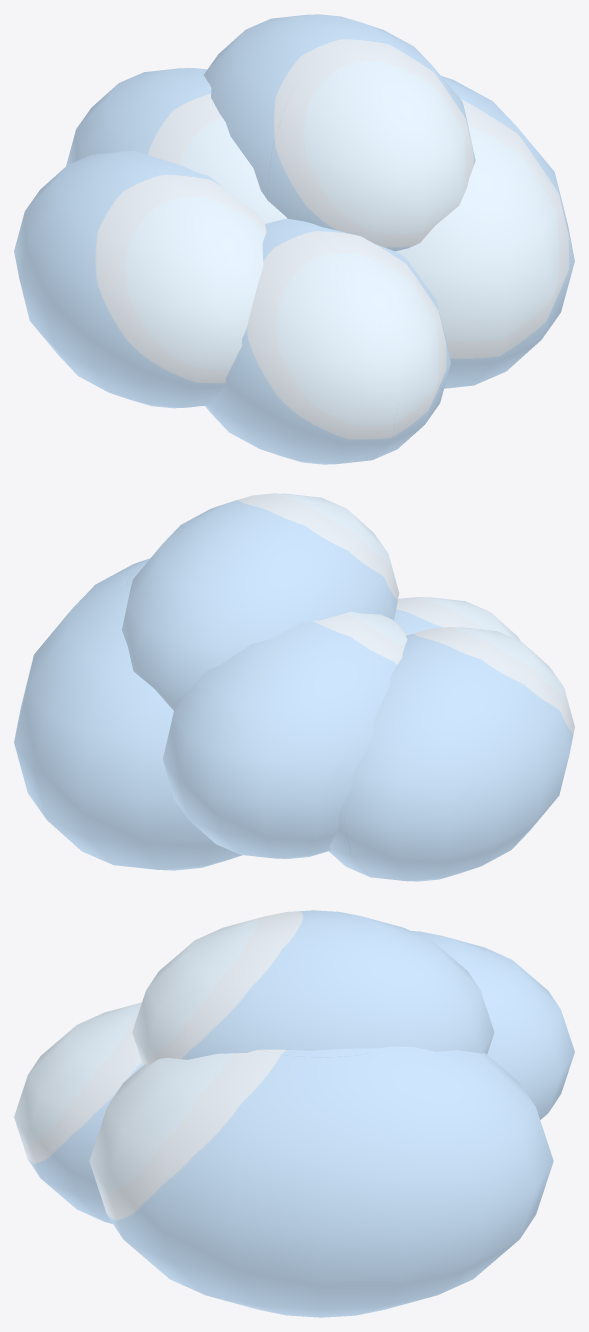
The model's file is cloud4.glb.
3 views of the same model, one above another, from view 1: azimuth 30°, elevation 25°; view 2: azimuth 150°, elevation 25°; view 3: azimuth 270°, elevation 25° (orthographic).
Parts seen in each view (by area): view 1: Sphere_2; view 2: Sphere_2; view 3: Sphere_2.
Part boxes in pixels (x1=…): Sphere_2: x1=14, y1=14, x2=574, y2=464; Sphere_2: x1=14, y1=493, x2=574, y2=881; Sphere_2: x1=14, y1=910, x2=574, y2=1317.
Bounding box in the file's own units: 145 × 98.45 × 143.
Materials: 1 (1 with a texture image).
